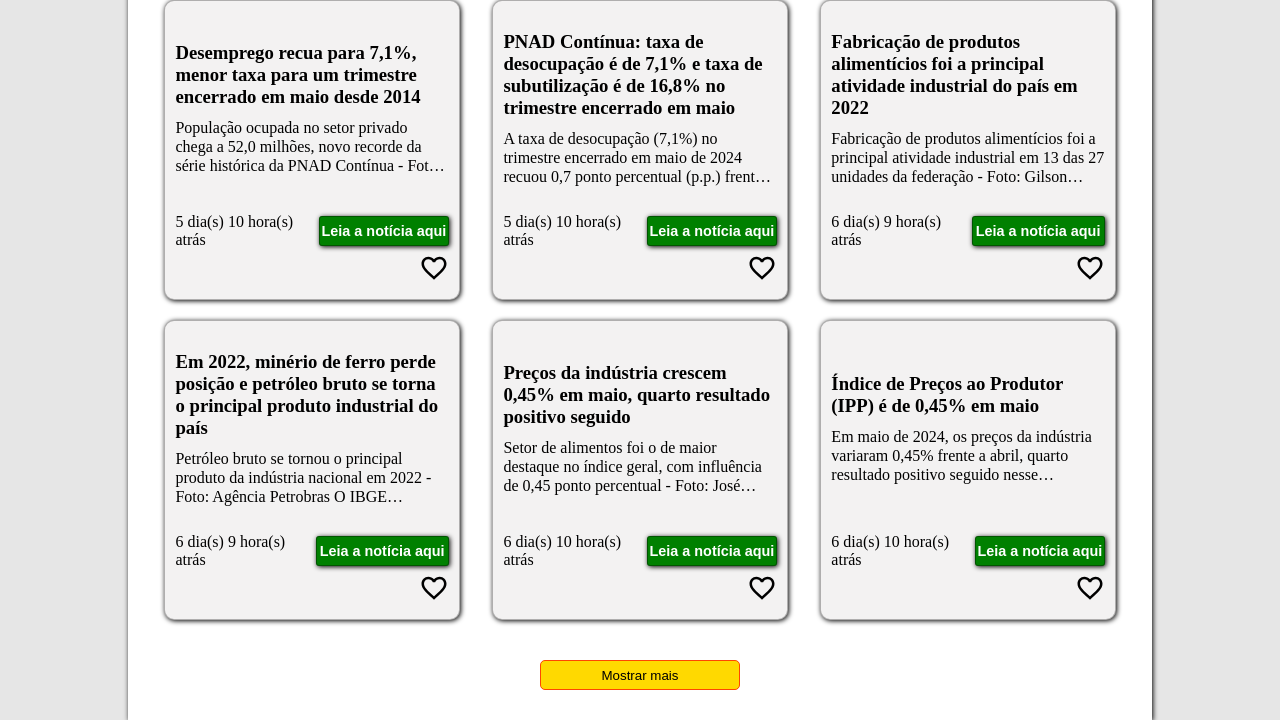
Verifica a página Home › Verifica se, ao clicar em Mostrar mais, renderiza mais 9 cards
(page scrolled)
Click the button "Mostrar mais": (640, 675) [540,660,740,690]
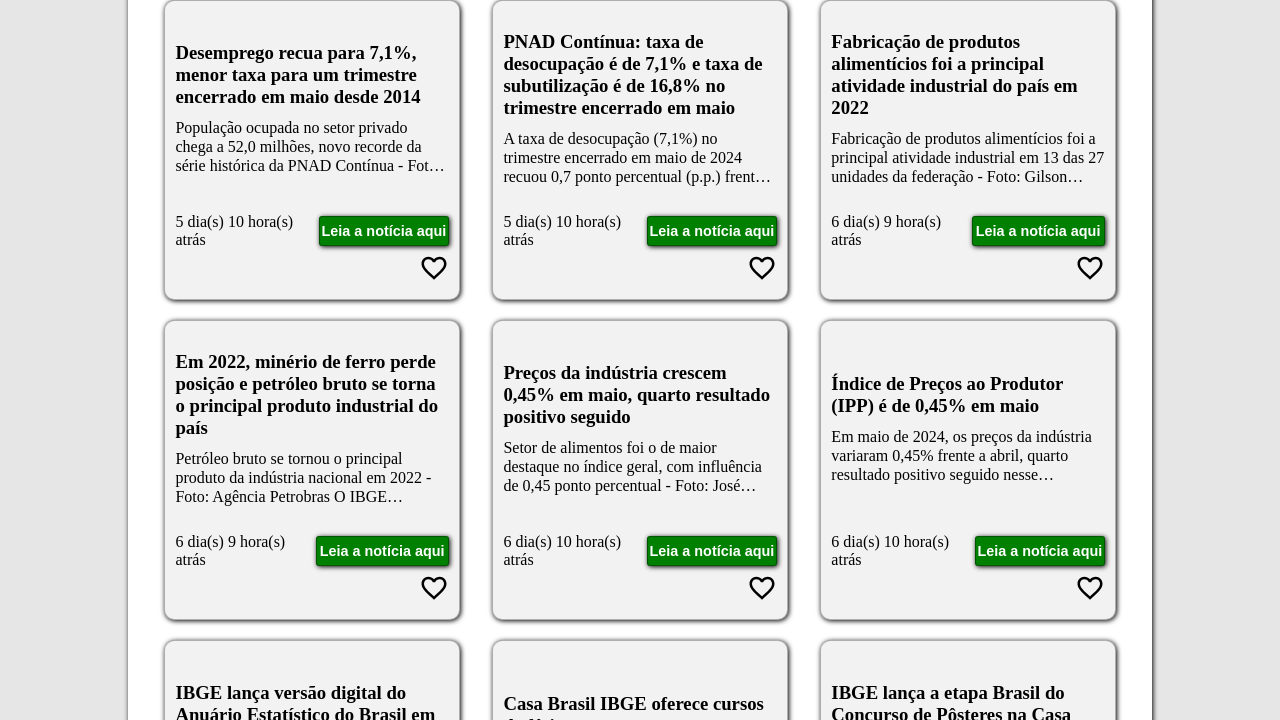
Check: the number of elements with test id "news-card" is 18
